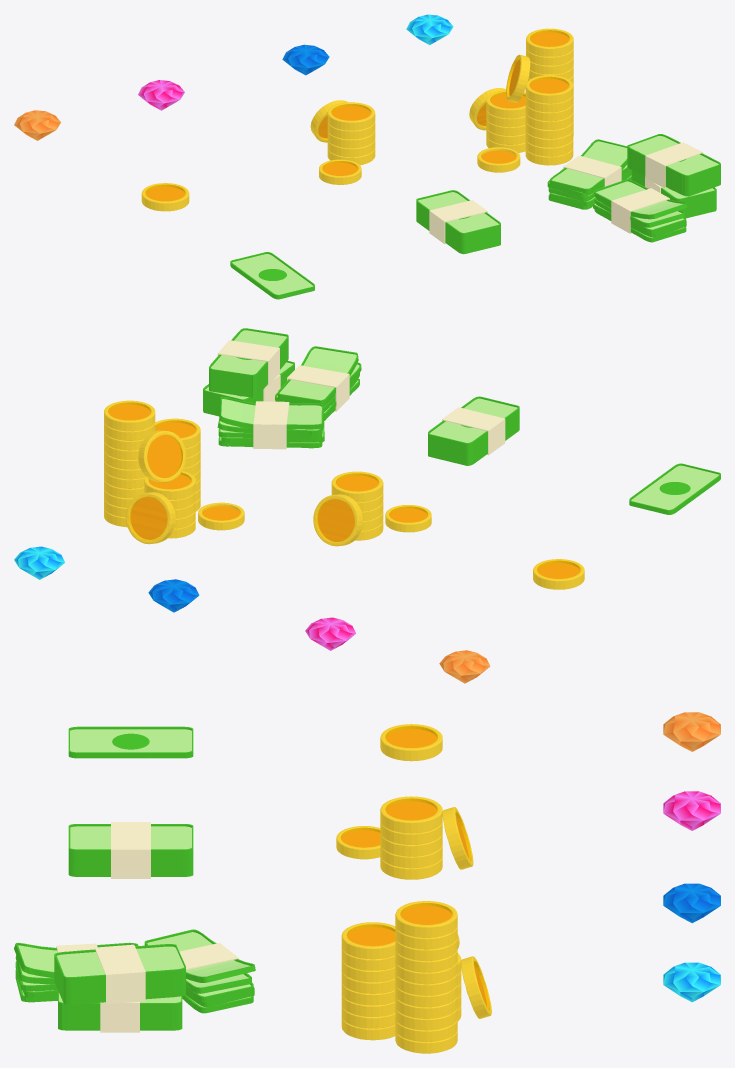
File: expense-transformed.glb
3 renders of one model, top to bottom at view 1: azimuth 30°, elevation 25°; view 2: azimuth 150°, elevation 25°; view 3: azimuth 270°, elevation 25°, orthographic. The views are drawn at different scales.
Visible parts, largest first — view 1: Cash_Material.001_0; view 2: Cash_Material.001_0; view 3: Cash_Material.001_0.
Boxes of the visible parts, box(x1,y1,x2,y2) form: Cash_Material.001_0: box(14, 14, 720, 299); Cash_Material.001_0: box(14, 328, 720, 683); Cash_Material.001_0: box(14, 712, 720, 1053).
Size of the model in its own units: 22.45 by 4.5 by 22.68.
1 material, 1 textured.
